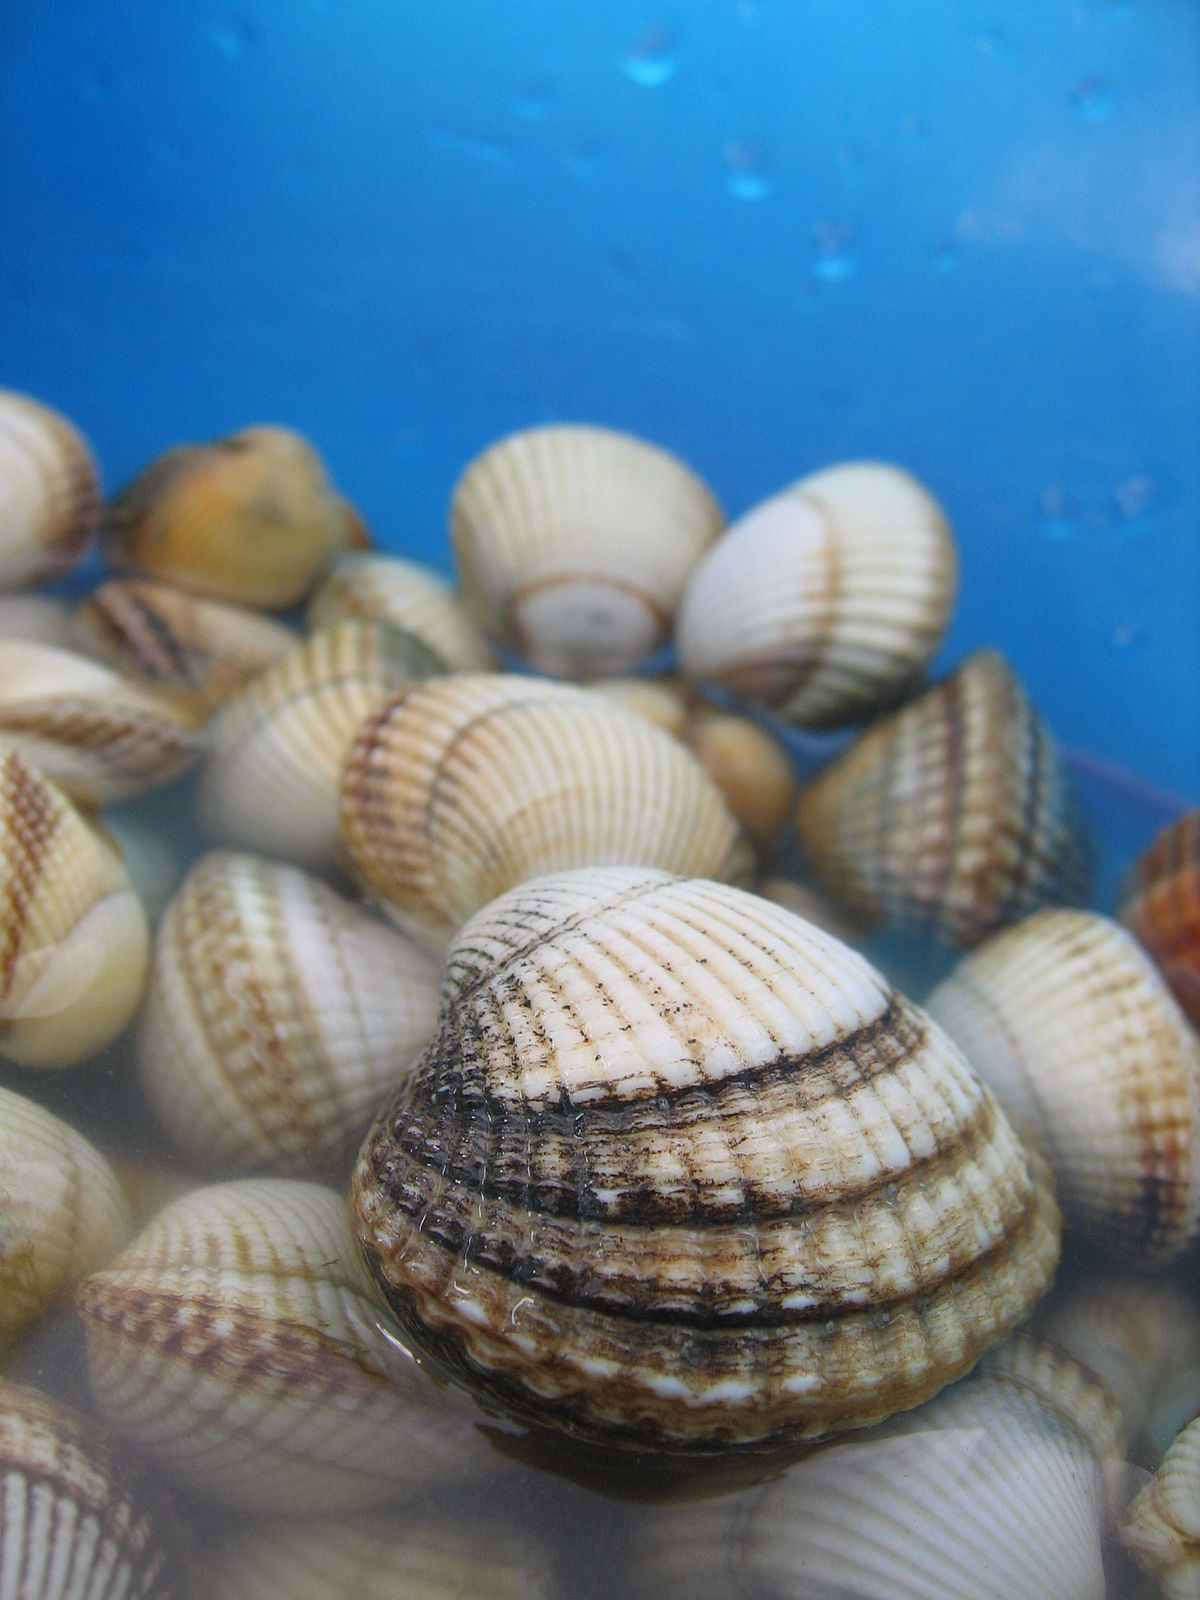cockle: (330, 857, 1073, 1500), (73, 1179, 527, 1511), (613, 1315, 1121, 1600), (325, 659, 773, 936), (129, 844, 454, 1186), (925, 898, 1200, 1274), (792, 644, 1095, 952), (669, 454, 955, 721), (442, 417, 721, 679), (187, 617, 450, 867), (1, 771, 163, 1090), (98, 425, 367, 615), (4, 1377, 209, 1600), (1, 644, 216, 821), (67, 559, 303, 716), (306, 532, 500, 687), (4, 370, 105, 593), (1123, 1400, 1194, 1600)
